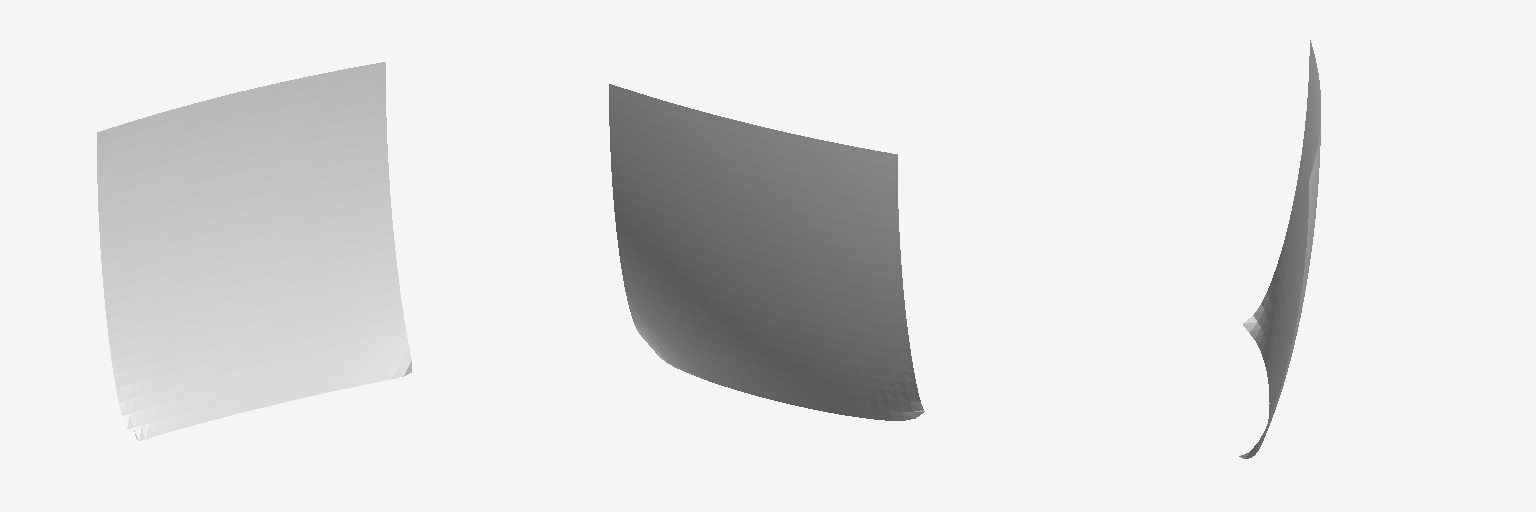
Rendered from Post-It.obj.
3 renders of one model, left to right at view 1: azimuth 30°, elevation 25°; view 2: azimuth 150°, elevation 25°; view 3: azimuth 270°, elevation 25°, orthographic.
Parts seen in each view (by area): view 1: object_1; view 2: object_1; view 3: object_1.
Part boxes in pixels (x1,y1,x2,y2): object_1: (97,62,411,440); object_1: (609,84,924,420); object_1: (1239,40,1320,458).
Bounding box in the file's own units: 39.94 × 39.16 × 9.88.